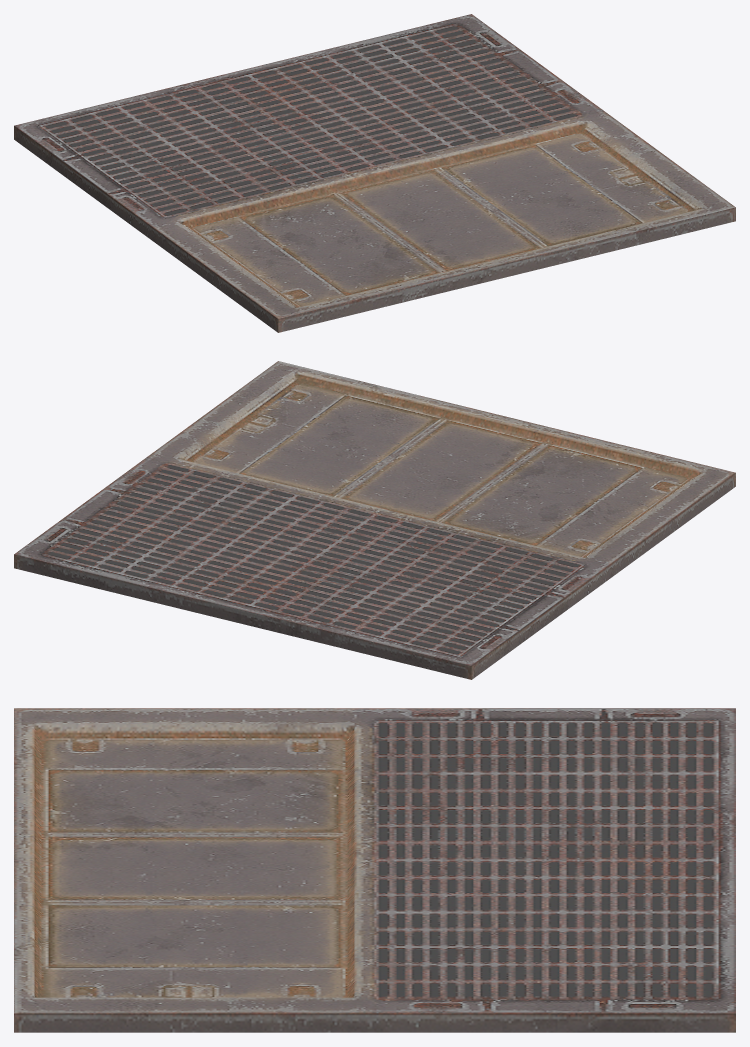
The model's file is Hatchway_05.fbx.
The picture shows the model from 3 angles, top to bottom: view 1: azimuth 30°, elevation 25°; view 2: azimuth 150°, elevation 25°; view 3: azimuth 270°, elevation 25°; orthographic projection. The views are drawn at different scales.
Parts seen in each view (by area): view 1: Hatchway_05; view 2: Hatchway_05; view 3: Hatchway_05.
Part boxes in pixels (bbox=[...]): Hatchway_05: bbox=[14, 14, 735, 332]; Hatchway_05: bbox=[14, 361, 735, 679]; Hatchway_05: bbox=[14, 708, 735, 1032].
Size of the model in its own units: 99.32 by 2.87 by 99.32.
